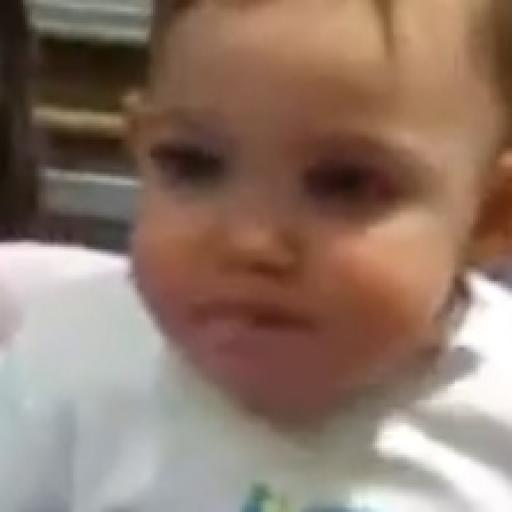Autism: (98, 12, 500, 410)
